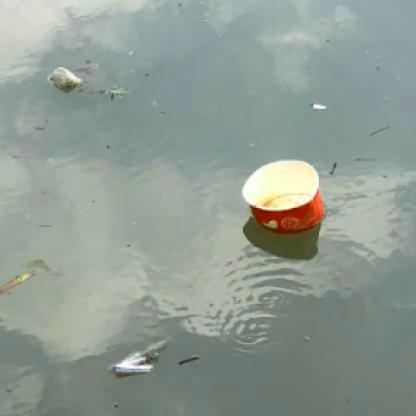Plastic: (240, 155, 328, 231)
